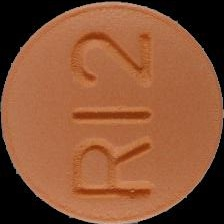61786-232: (0, 0, 224, 224)
